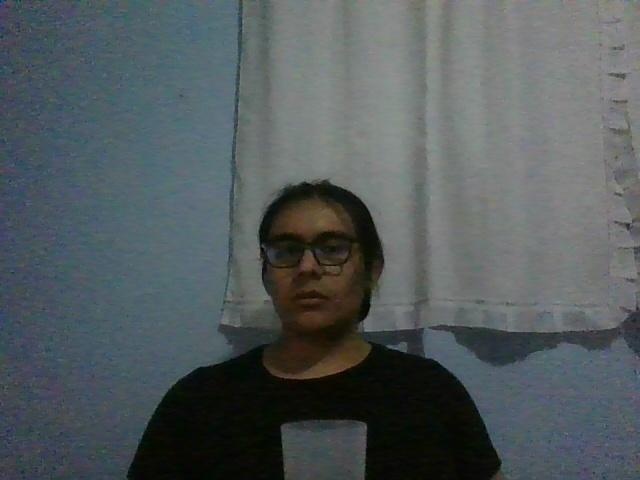vaso: (280, 418, 366, 480)
